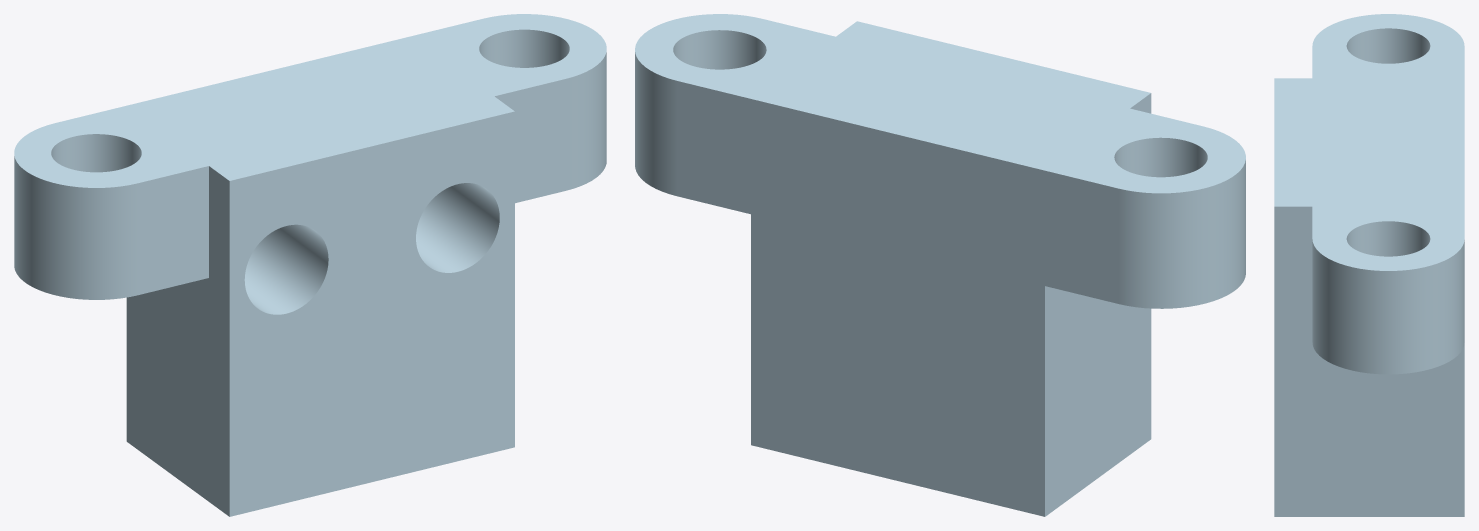
The picture shows the model from 3 angles, left to right: view 1: azimuth 30°, elevation 25°; view 2: azimuth 150°, elevation 25°; view 3: azimuth 270°, elevation 25°; orthographic projection. The views are drawn at different scales.
Visible parts, largest first — view 1: mesh449, mesh462, mesh453, mesh455, mesh454, mesh460, mesh448, mesh451, mesh461, mesh457, mesh464; view 2: mesh458, mesh462, mesh453, mesh455, mesh461, mesh457, mesh464; view 3: mesh462, mesh459, mesh461, mesh464, mesh457.
Part boxes in pixels (x1,y1,x2,y2): mesh449: [229, 111, 514, 516]; mesh462: [14, 14, 606, 187]; mesh453: [126, 166, 229, 516]; mesh455: [14, 156, 137, 299]; mesh454: [137, 166, 208, 295]; mesh460: [495, 79, 565, 203]; mesh448: [416, 183, 499, 272]; mesh451: [244, 224, 328, 314]; mesh461: [565, 52, 606, 190]; mesh457: [51, 134, 141, 172]; mesh464: [479, 29, 569, 67]; mesh458: [677, 81, 1118, 516]; mesh462: [635, 14, 1245, 193]; mesh453: [1045, 93, 1151, 516]; mesh455: [1118, 160, 1245, 308]; mesh461: [635, 52, 677, 195]; mesh457: [1114, 137, 1207, 177]; mesh464: [673, 30, 766, 69]; mesh462: [1274, 14, 1464, 270]; mesh459: [1274, 206, 1464, 516]; mesh461: [1312, 239, 1464, 374]; mesh464: [1346, 221, 1430, 256]; mesh457: [1346, 28, 1430, 63].
Bounding box in the file's own units: 0.016 × 0.009 × 0.005.
